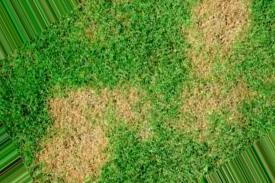patch: (50, 103, 93, 180), (200, 8, 232, 52), (104, 89, 140, 117), (193, 82, 221, 109)
